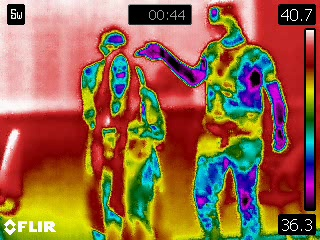human: (134, 5, 292, 240), (80, 20, 158, 240), (99, 53, 169, 240)
